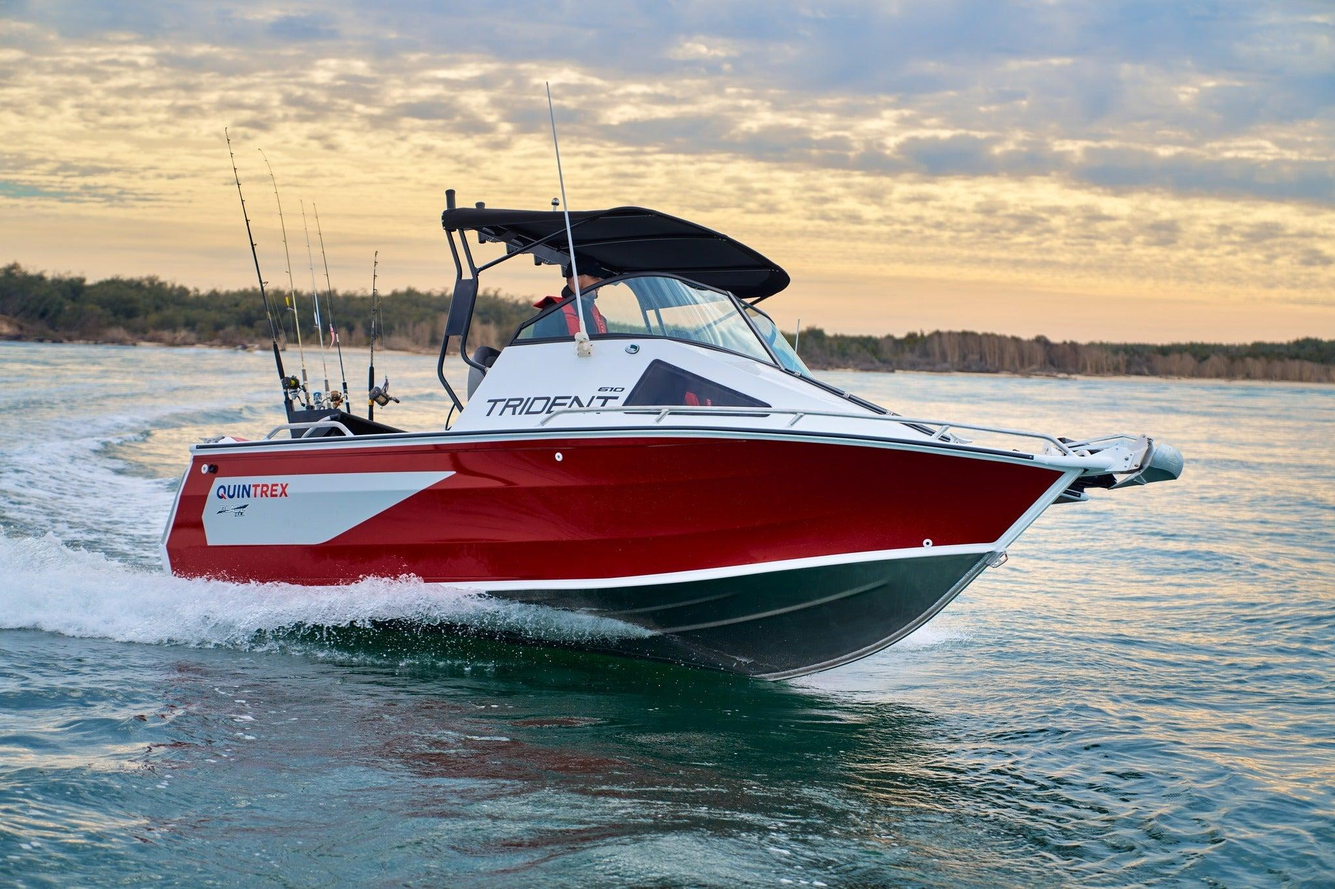fishing boat: (147, 57, 1193, 663)
